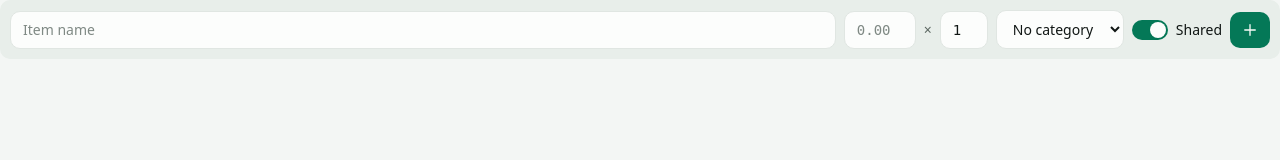
Test: QuickAddBar › does not add and shows a hint when the name is empty
Step 1. Type "3.00" into the field named "unit price" → (880, 30), box [844,10,916,48]
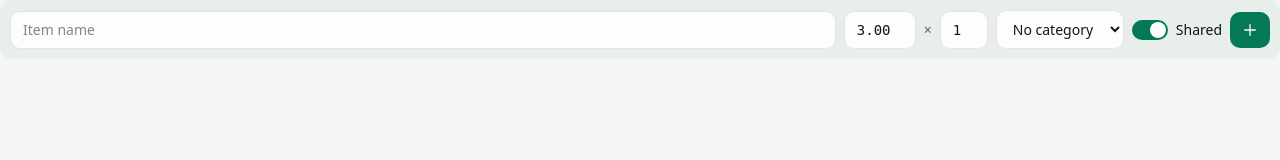
Step 2. Click the button named "add item" → click(1250, 30), box [1230,12,1270,48]
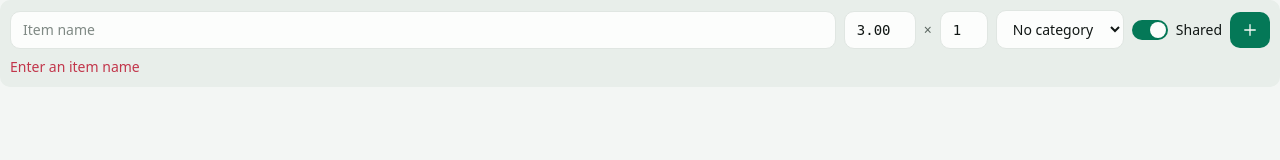
Result: the text "Enter an item name" is shown at [10,57,140,76]
